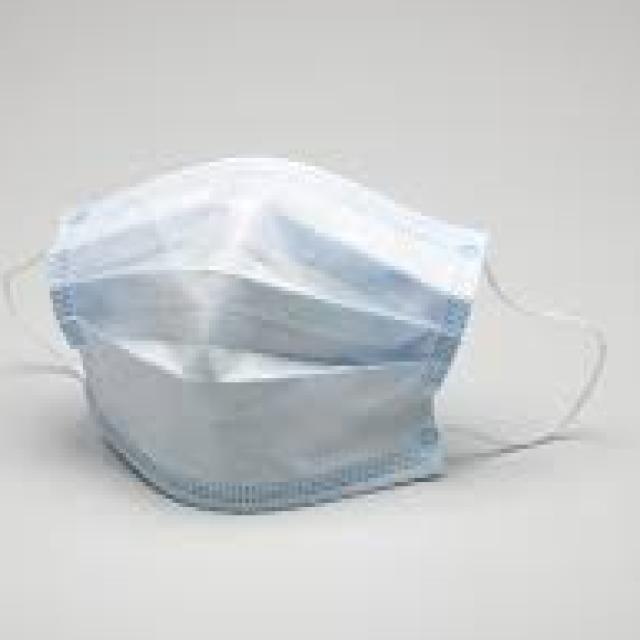organic: (11, 138, 566, 535)
